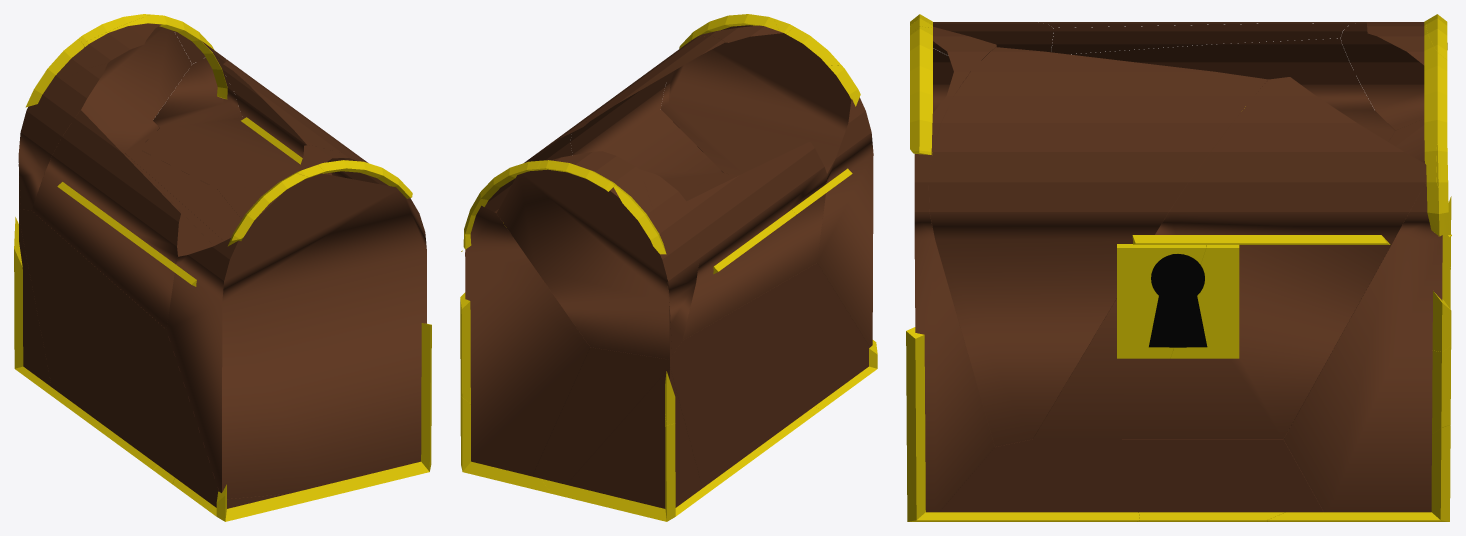
File: BrokenTresureBox.fbx
3 views of the same model, side by side, from view 1: azimuth 30°, elevation 25°; view 2: azimuth 150°, elevation 25°; view 3: azimuth 270°, elevation 25° (orthographic). The views are drawn at different scales.
Visible parts, largest first — view 1: bod_cell.010, bod_cell.011, bod_cell.002, bod_cell.005, bod_cell.007, bod_cell.008, fflame_cell.014, bod_cell.012, bod_cell.003, bod_cell.009, fflame_cell.002, bod_cell (+10 smaller); view 2: bod_cell.011, bod_cell.010, bod_cell.005, bod_cell.012, bod_cell.002, bod_cell.009, bod_cell, bod_cell.008, fflame_cell.002, fflame_cell.023, fflame_cell, bod_cell.007 (+10 smaller); view 3: bod_cell.009, bod_cell.007, bod_cell.012, bod_cell.011, bod_cell.010, bod_cell.002, bod_cell.014, fflame_cell.014, bod_cell.008, kkeybode_cell.001, kkeybode_cell, key (+11 smaller).
Boxes of the visible parts, <box> form: bod_cell.010: <box>166,145,426,498</box>; bod_cell.011: <box>19,209,287,508</box>; bod_cell.002: <box>31,110,213,329</box>; bod_cell.005: <box>18,23,191,210</box>; bod_cell.007: <box>139,59,331,188</box>; bod_cell.008: <box>18,63,107,210</box>; fflame_cell.014: <box>172,323,431,521</box>; bod_cell.012: <box>153,57,241,127</box>; bod_cell.003: <box>125,149,241,240</box>; bod_cell.009: <box>217,71,388,220</box>; fflame_cell.002: <box>14,269,157,469</box>; bod_cell: <box>19,219,51,386</box>; bod_cell.011: <box>532,263,869,487</box>; bod_cell.010: <box>661,25,873,347</box>; bod_cell.005: <box>496,151,671,359</box>; bod_cell.012: <box>465,205,590,476</box>; bod_cell.002: <box>665,141,826,340</box>; bod_cell.009: <box>570,35,724,193</box>; bod_cell: <box>566,368,702,508</box>; bod_cell.008: <box>639,169,699,354</box>; fflame_cell.002: <box>541,410,813,521</box>; fflame_cell.023: <box>460,394,551,493</box>; fflame_cell: <box>463,160,617,249</box>; bod_cell.007: <box>485,121,588,213</box>; bod_cell.009: <box>928,47,1268,446</box>; bod_cell.007: <box>1033,77,1426,439</box>; bod_cell.012: <box>1283,181,1442,512</box>; bod_cell.011: <box>939,434,1323,512</box>; bod_cell.010: <box>914,27,996,512</box>; bod_cell.002: <box>1069,38,1394,141</box>; bod_cell.014: <box>1051,23,1351,54</box>; fflame_cell.014: <box>906,327,1139,521</box>; bod_cell.008: <box>1340,22,1424,130</box>; kkeybode_cell.001: <box>1117,244,1206,358</box>; kkeybode_cell: <box>1170,244,1239,358</box>; key: <box>1149,254,1207,347</box>.
Bounding box in the file's own units: 530 × 774 × 893.
